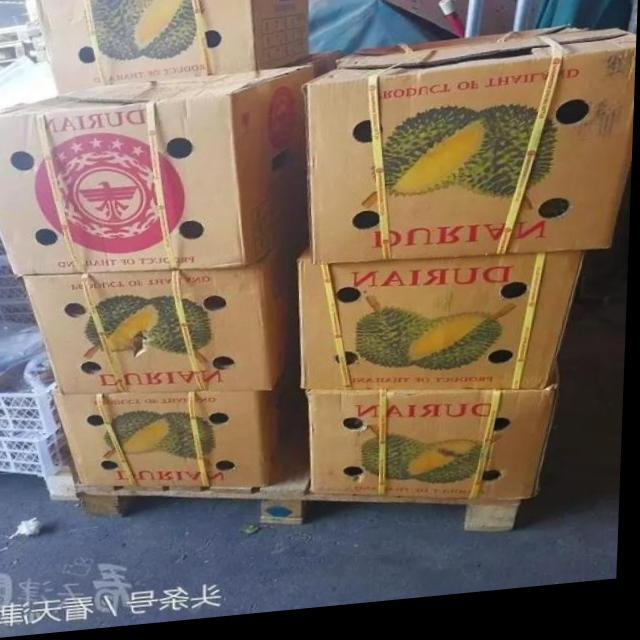box: (306, 37, 637, 272), (0, 70, 314, 276), (300, 247, 589, 400), (23, 245, 301, 396), (310, 371, 566, 511), (52, 361, 302, 494), (35, 0, 311, 93)
